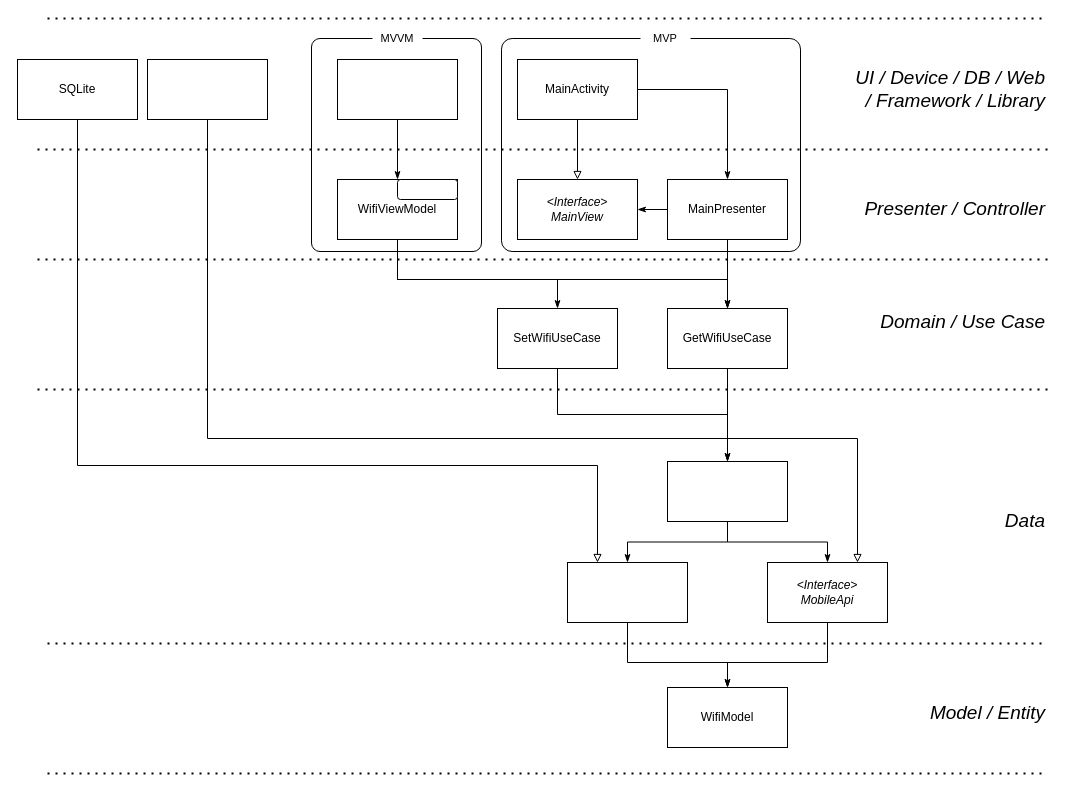
The diagram is 1067 pixels wide and 792 high, and some of its shapes have lost their labels. Here are the shapes that lost their labels. From the top down, the centre of each, then its label:
At pixel 207 89: "OkHttp".
At pixel 397 89: "WifiActivity".
At pixel 427 189: "LiveData".
At pixel 727 491: "DataRepository".
At pixel 627 592: "<Interface> Storage".
